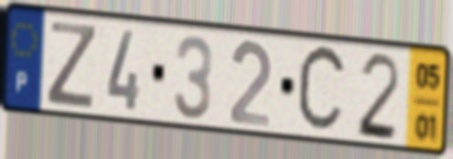2: (227, 37, 274, 131), (356, 50, 402, 144)
3: (172, 32, 214, 121)
4: (106, 28, 142, 112)
C: (294, 41, 350, 139)
Z: (43, 18, 100, 112)
